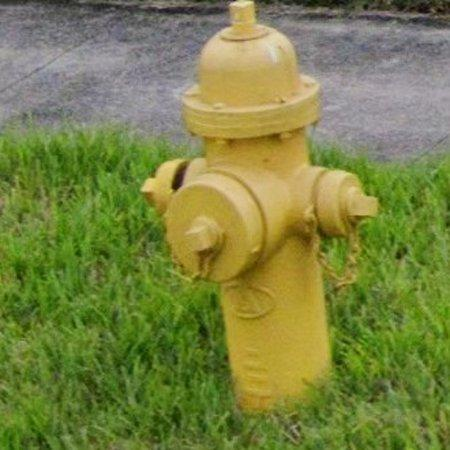a fire hydrant: (142, 0, 379, 410)
